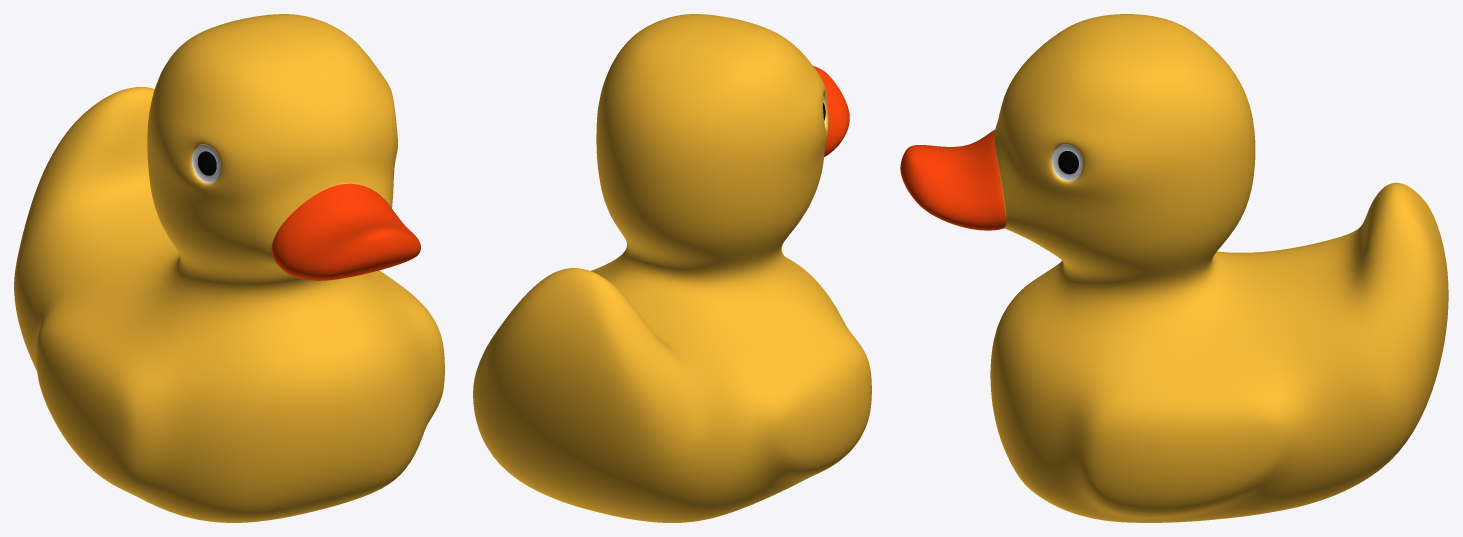
Rendered from gummy-duck-B3kbx0j2.glb.
3 renders of one model, left to right at view 1: azimuth 30°, elevation 25°; view 2: azimuth 150°, elevation 25°; view 3: azimuth 270°, elevation 25°, orthographic. The views are drawn at different scales.
Parts seen in each view (by area): view 1: Gummy Duck; view 2: Gummy Duck; view 3: Gummy Duck.
Boxes of the visible parts, left/top/right/bottom form: Gummy Duck: left=14, top=14, right=444, bottom=522; Gummy Duck: left=473, top=14, right=871, bottom=522; Gummy Duck: left=900, top=14, right=1448, bottom=522.
Bounding box in the file's own units: 1.83 × 2.38 × 2.62.
